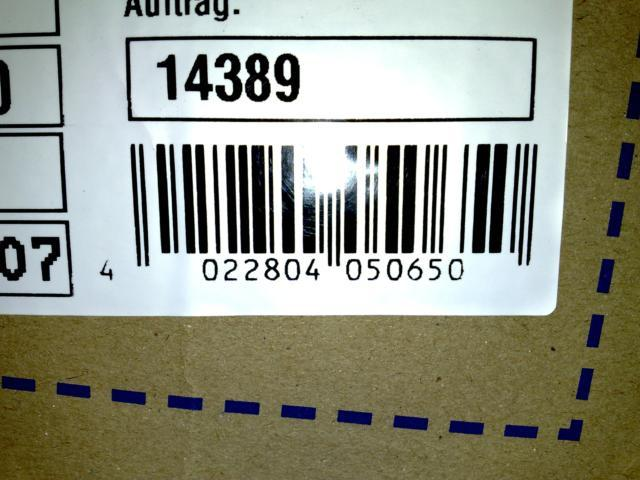Barcode: (82, 127, 551, 299)
